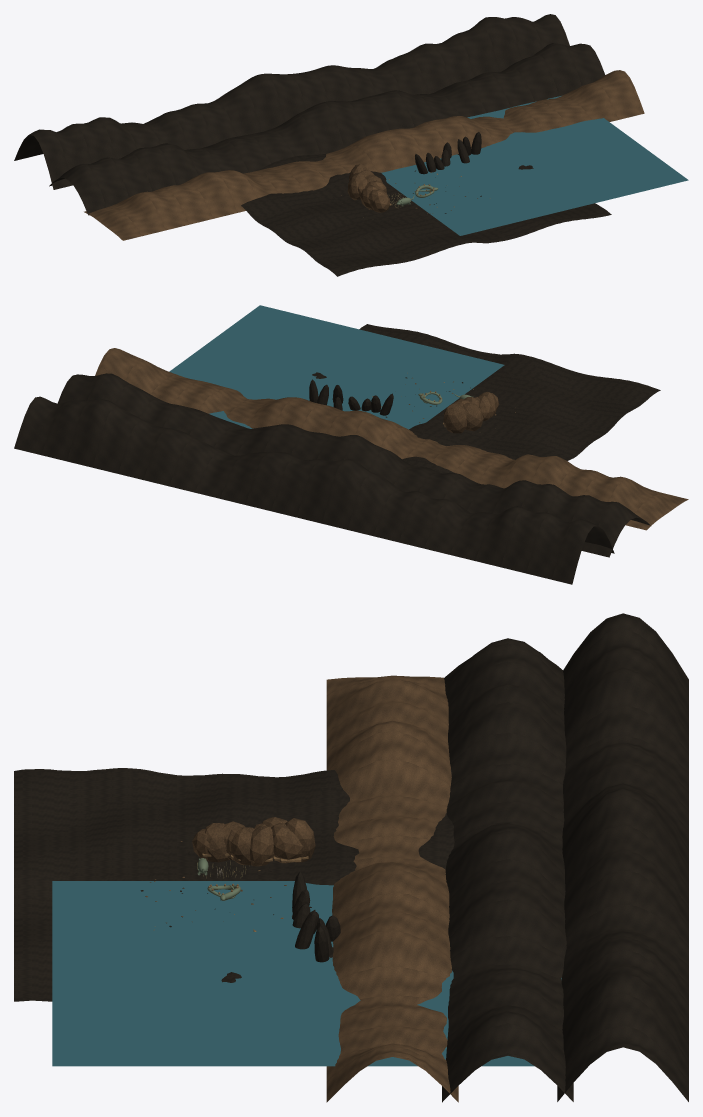
The model's file is chapter-4.glb.
3 views of the same model, one above another, from view 1: azimuth 30°, elevation 25°; view 2: azimuth 150°, elevation 25°; view 3: azimuth 270°, elevation 25° (orthographic). The views are drawn at different scales.
Parts seen in each view (by area): view 1: Eroded ridge band 2.004, Eroded ridge band 1.004, Open restless sea, Eroded ridge band 0.004, Continuous weathered terrain 4; view 2: Eroded ridge band 2.004, Open restless sea, Eroded ridge band 0.004, Eroded ridge band 1.004, Continuous weathered terrain 4, Stratified shore cliff.012, Stratified shore cliff.009; view 3: Eroded ridge band 2.004, Open restless sea, Eroded ridge band 1.004, Eroded ridge band 0.004, Continuous weathered terrain 4, Stratified shore cliff.007.
Boxes of the visible parts, bbox=[...] form: Eroded ridge band 2.004: bbox=[14, 14, 569, 189]; Eroded ridge band 1.004: bbox=[49, 43, 604, 215]; Open restless sea: bbox=[381, 96, 688, 235]; Eroded ridge band 0.004: bbox=[84, 70, 644, 240]; Continuous weathered terrain 4: bbox=[241, 153, 611, 276]; Eroded ridge band 2.004: bbox=[14, 396, 614, 584]; Open restless sea: bbox=[169, 305, 504, 429]; Eroded ridge band 0.004: bbox=[95, 348, 688, 530]; Eroded ridge band 1.004: bbox=[57, 373, 650, 557]; Continuous weathered terrain 4: bbox=[312, 324, 660, 473]; Stratified shore cliff.012: bbox=[443, 403, 466, 433]; Stratified shore cliff.009: bbox=[463, 403, 483, 431]; Eroded ridge band 2.004: bbox=[557, 613, 688, 1101]; Open restless sea: bbox=[52, 881, 561, 1066]; Eroded ridge band 1.004: bbox=[442, 638, 573, 1102]; Eroded ridge band 0.004: bbox=[326, 675, 458, 1102]; Continuous weathered terrain 4: bbox=[14, 768, 563, 1001]; Stratified shore cliff.007: bbox=[250, 826, 273, 866].
Size of the model in its own units: 182 by 19.76 by 123.
8 materials, 3 textured.
